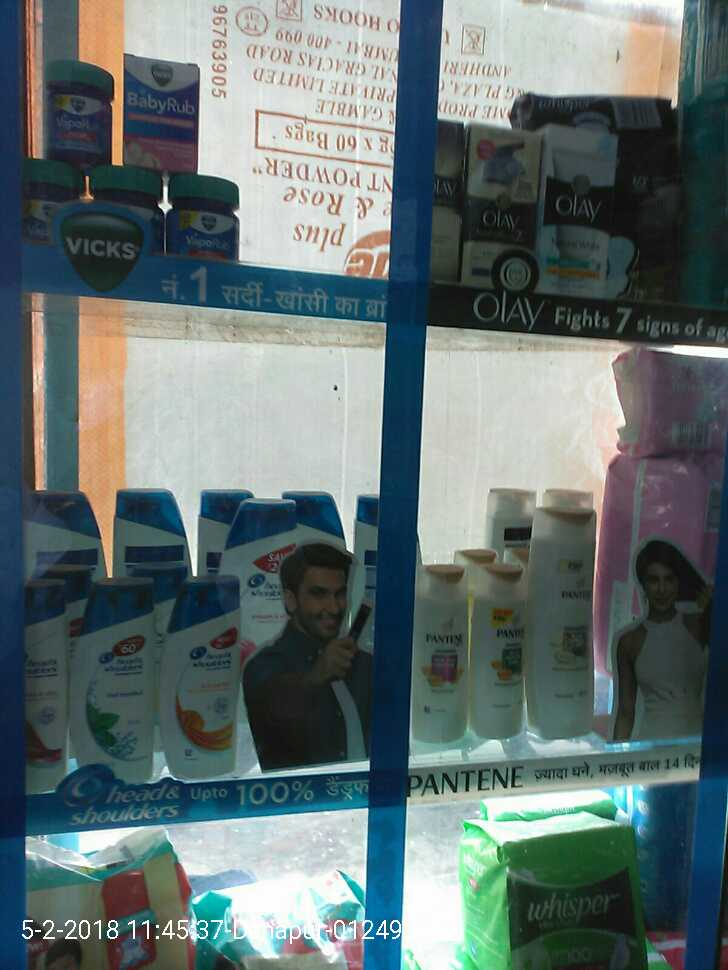vicks: (25, 37, 240, 264)
